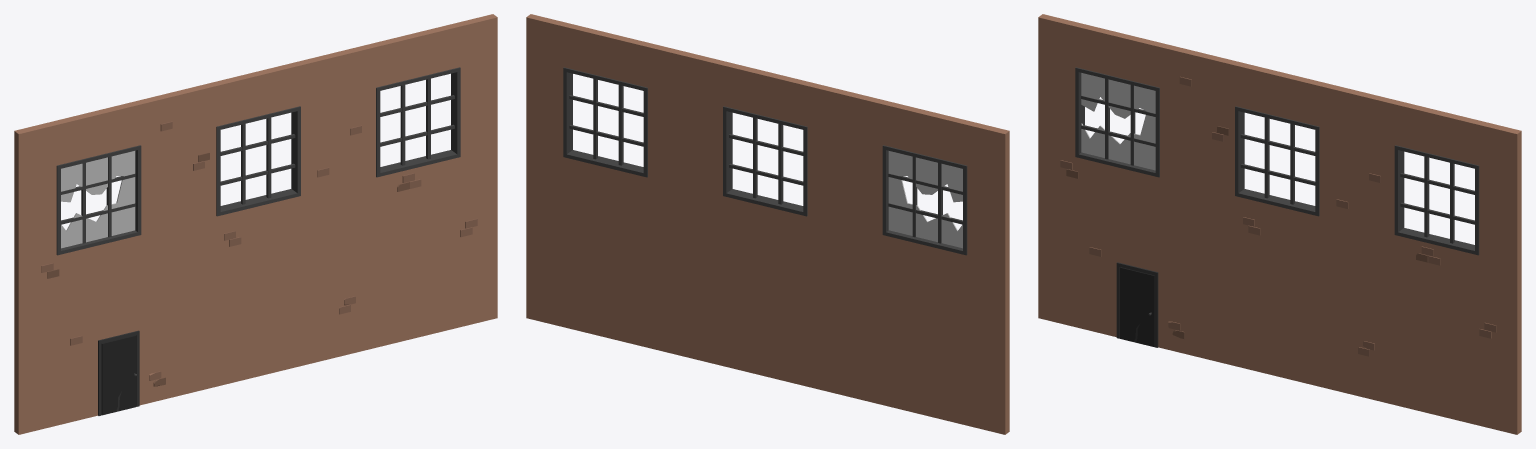
File: Wall_03.fbx
The picture shows the model from 3 angles, left to right: view 1: azimuth 30°, elevation 25°; view 2: azimuth 150°, elevation 25°; view 3: azimuth 330°, elevation 25°; orthographic projection.
Visible parts, largest first — view 1: Wall_03; view 2: Wall_03; view 3: Wall_03.
Part boxes in pixels (bbox=[...]): Wall_03: bbox=[14, 14, 497, 434]; Wall_03: bbox=[526, 14, 1009, 434]; Wall_03: bbox=[1038, 14, 1521, 434].
Bounding box in the file's own units: 1500 × 900 × 46.46.
